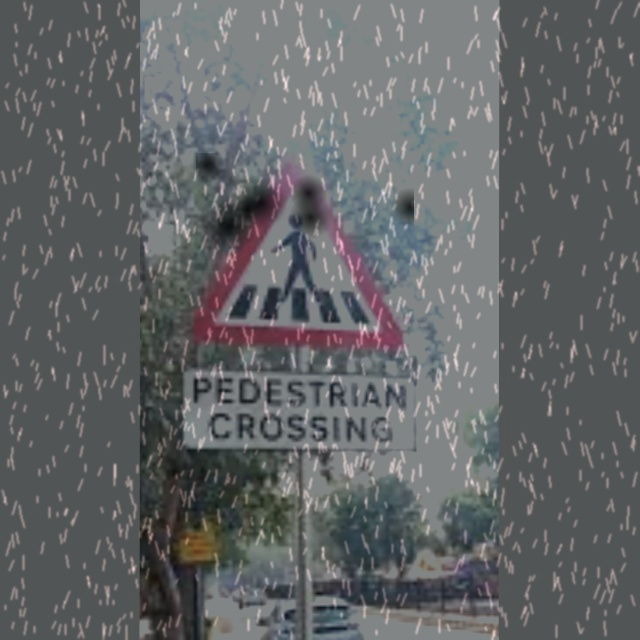Pedestrian_Crossing: (196, 153, 414, 345)
